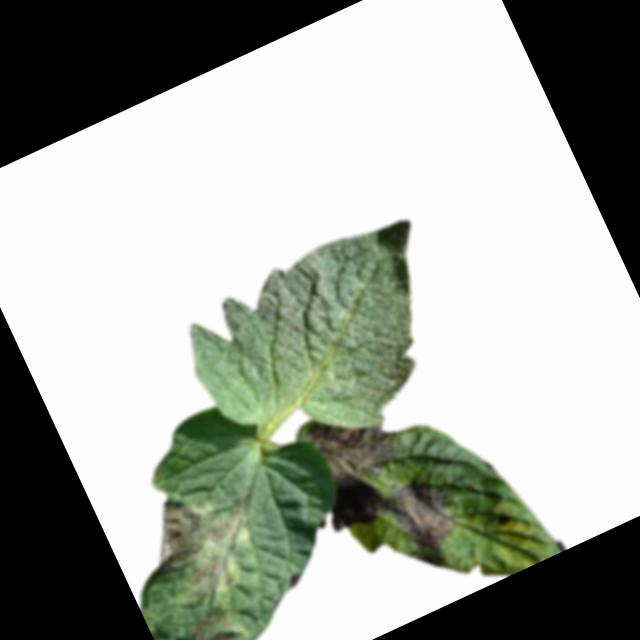Late_blight: (320, 449, 471, 586), (135, 475, 249, 572), (305, 400, 403, 495), (175, 540, 245, 604), (192, 613, 258, 640)
